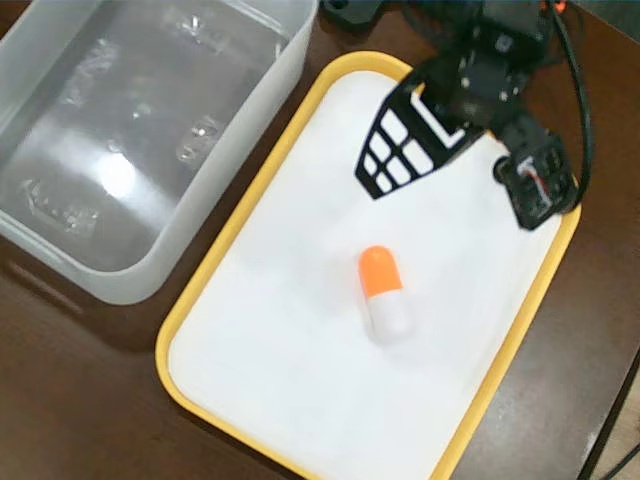pill: (351, 242, 421, 345)
